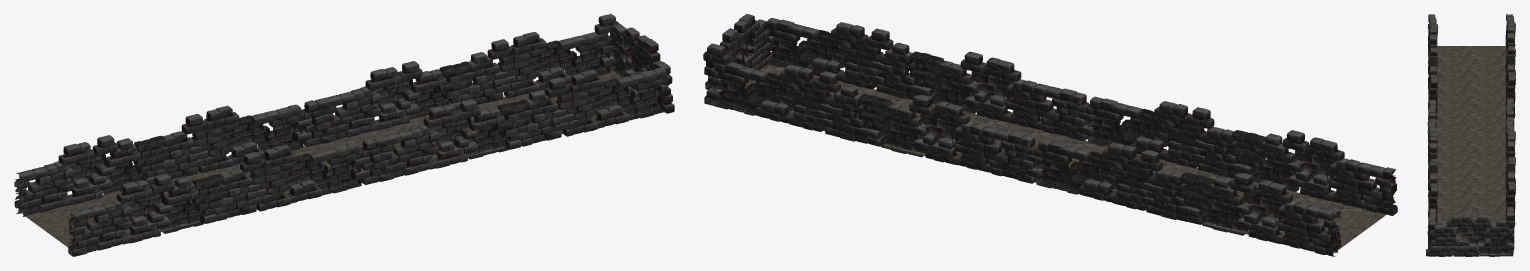
Rendered from brickLevel1.glb.
3 views of the same model, side by side, from view 1: azimuth 30°, elevation 25°; view 2: azimuth 150°, elevation 25°; view 3: azimuth 270°, elevation 25° (orthographic). The views are drawn at different scales.
Visible parts, largest first — view 1: Bricks_Modular_Bricks_Large_low_Bricks_Modular_Bricks1_0.002, Plane.001; view 2: Bricks_Modular_Bricks_Large_low_Bricks_Modular_Bricks1_0.002, Plane.001; view 3: Plane.001, Bricks_Modular_Bricks_Large_low_Bricks_Modular_Bricks1_0.002.
Part boxes in pixels (x1=…): Bricks_Modular_Bricks_Large_low_Bricks_Modular_Bricks1_0.002: x1=14, y1=14, x2=674, y2=256; Plane.001: x1=22, y1=70, x2=643, y2=247; Bricks_Modular_Bricks_Large_low_Bricks_Modular_Bricks1_0.002: x1=703, y1=14, x2=1397, y2=256; Plane.001: x1=710, y1=64, x2=1386, y2=253; Plane.001: x1=1436, y1=46, x2=1510, y2=254; Bricks_Modular_Bricks_Large_low_Bricks_Modular_Bricks1_0.002: x1=1426, y1=14, x2=1515, y2=256.
Bounding box in the file's own units: 33.71 × 3.02 × 6.
2 materials, 2 textured.
